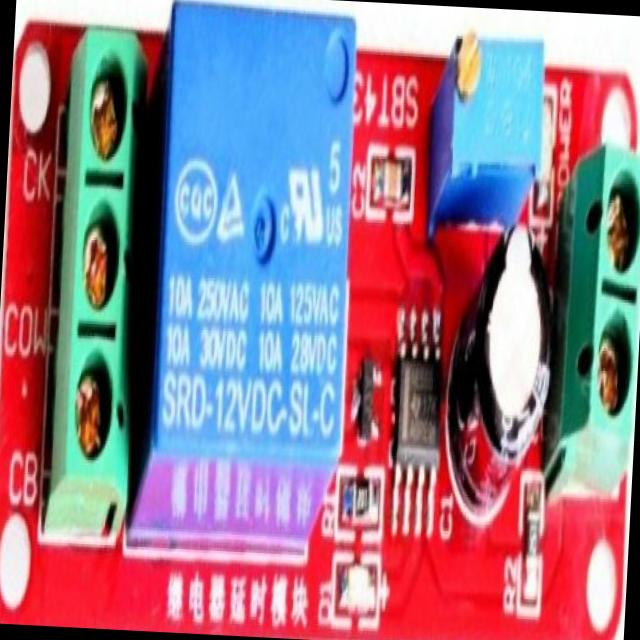IC: (386, 321, 447, 518)
LED: (339, 557, 380, 628), (538, 100, 558, 220)
capacitor: (449, 226, 556, 499), (376, 148, 406, 215)
connector: (44, 32, 151, 518), (542, 139, 640, 510)
potentiometer: (424, 31, 548, 230)
resistor: (521, 480, 544, 596), (345, 475, 379, 523)
transistor: (353, 353, 380, 440)
